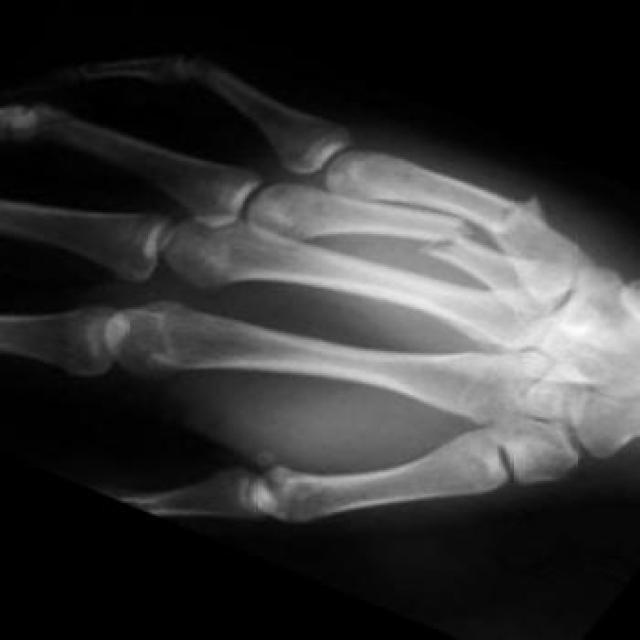Fracture: (476, 191, 560, 241), (415, 216, 470, 258)
